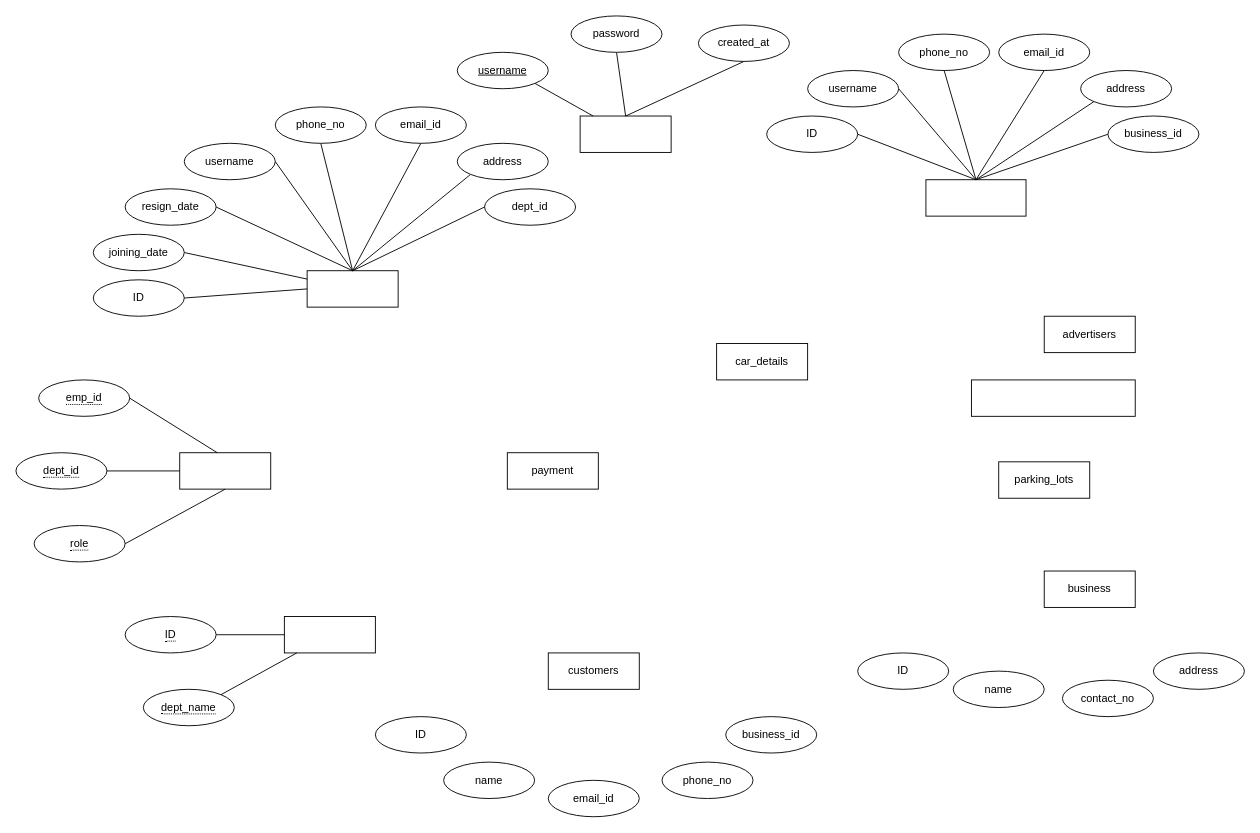
Image size: 1260x833. Some labels were removed from this diagram. The shapes that lost their labels are listed below. From the top down, each one's centre as x and y in pixels, then its label:
pixel 625 133: Authentication
pixel 975 197: parking_lot_owner
pixel 352 288: employee
pixel 1053 397: support_request
pixel 225 470: emp_dept
pixel 329 634: department
